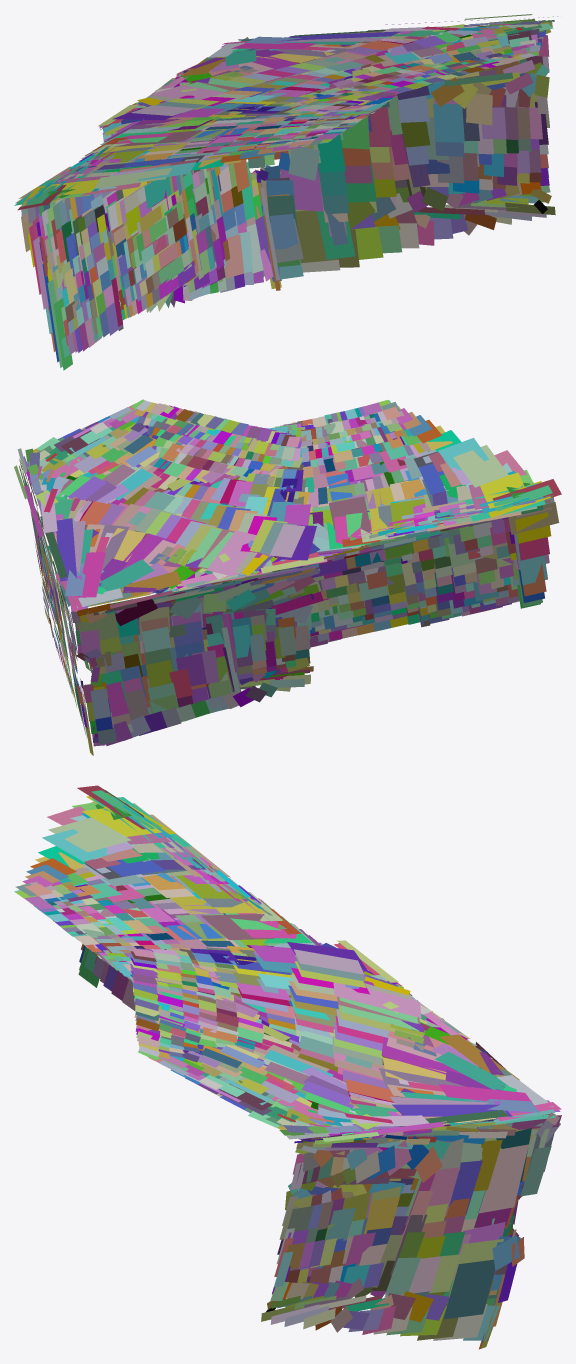
File: planarSplat_rawPrims_normalized_colorPrim.glb
3 views of the same model, one above another, from view 1: azimuth 30°, elevation 25°; view 2: azimuth 150°, elevation 25°; view 3: azimuth 270°, elevation 25° (orthographic). The views are drawn at different scales.
Visible parts, largest first — view 1: planarSplat_rawPrims_normalized_colorPrim.ply; view 2: planarSplat_rawPrims_normalized_colorPrim.ply; view 3: planarSplat_rawPrims_normalized_colorPrim.ply.
Part boxes in pixels (<box>): planarSplat_rawPrims_normalized_colorPrim.ply: <box>14,14,558,370</box>; planarSplat_rawPrims_normalized_colorPrim.ply: <box>14,399,561,755</box>; planarSplat_rawPrims_normalized_colorPrim.ply: <box>14,785,561,1349</box>.
Size of the model in its own units: 7.14 by 3.8 by 5.1.
